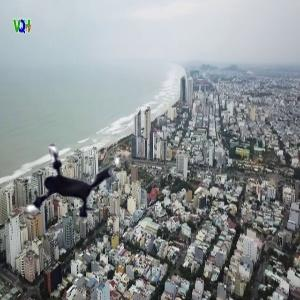drone: (6, 115, 132, 241)
